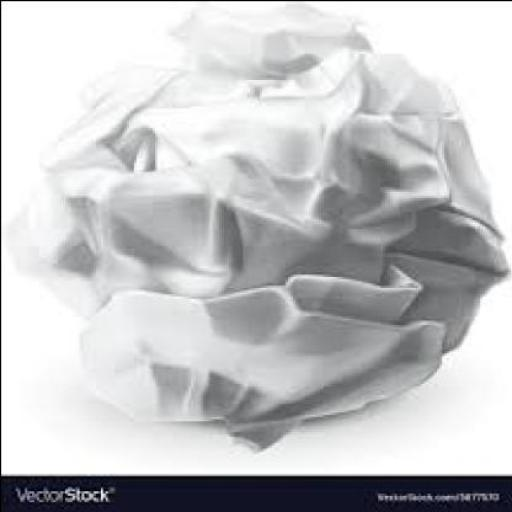paper: (36, 1, 510, 449)
